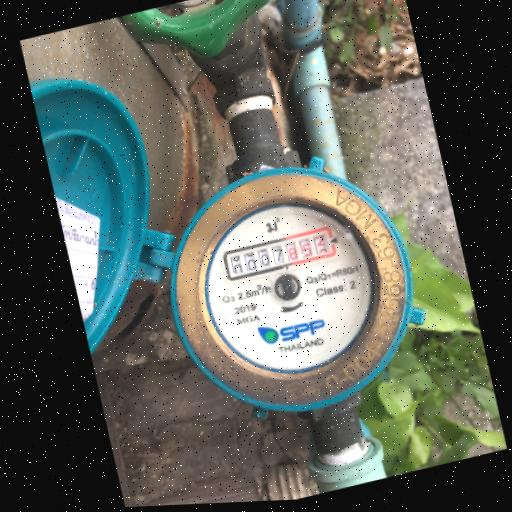0: (243, 250, 257, 272), (257, 248, 270, 268), (231, 256, 243, 275)
2: (313, 235, 327, 255)
5: (298, 237, 312, 258)
7: (271, 244, 284, 265)
8: (285, 243, 299, 262)
border_water_meter_number: (221, 225, 337, 282)
